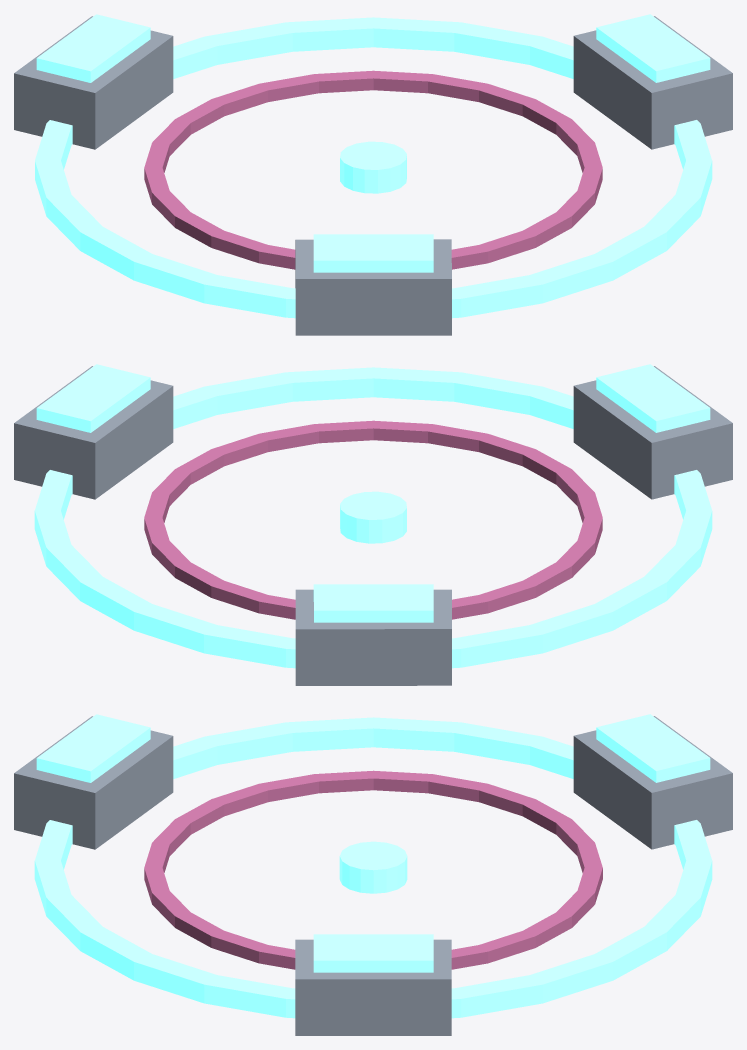
File: neon-dispatch-static-pickup-destination-marker__187.glb
3 renders of one model, top to bottom at view 1: azimuth 30°, elevation 25°; view 2: azimuth 150°, elevation 25°; view 3: azimuth 270°, elevation 25°, orthographic.
Visible parts, largest first — view 1: light, metal, accent; view 2: light, metal, accent; view 3: light, metal, accent.
Part boxes in pixels (left/top/right/bottom): light: left=35, top=14, right=712, bottom=318; metal: left=14, top=16, right=732, bottom=335; accent: left=144, top=70, right=602, bottom=269; light: left=34, top=364, right=712, bottom=668; metal: left=14, top=366, right=732, bottom=685; accent: left=144, top=420, right=602, bottom=619; light: left=34, top=714, right=712, bottom=1018; metal: left=14, top=716, right=732, bottom=1035; accent: left=144, top=770, right=602, bottom=969.
Bounding box in the file's own units: 1.36 × 0.145 × 1.38.
